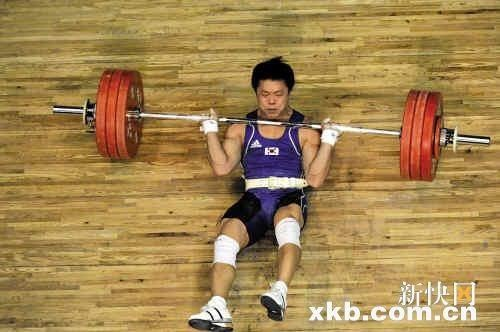falling: (188, 52, 344, 324)
